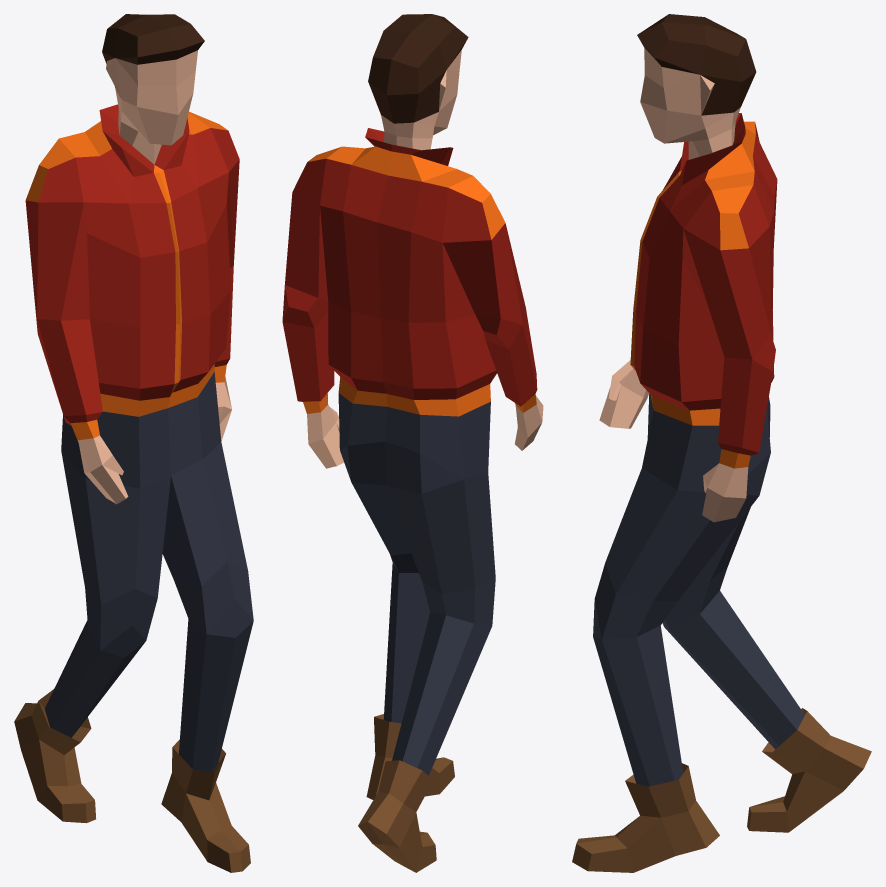
Rendered from AutumnManC.003.glb.
The picture shows the model from 3 angles, left to right: view 1: azimuth 30°, elevation 25°; view 2: azimuth 150°, elevation 25°; view 3: azimuth 270°, elevation 25°; orthographic projection. The views are drawn at different scales.
Parts seen in each view (by area): view 1: AutumnManC.003; view 2: AutumnManC.003; view 3: AutumnManC.003.
Part boxes in pixels (x1,y1,x2,y2): AutumnManC.003: [14, 14, 253, 872]; AutumnManC.003: [282, 14, 543, 872]; AutumnManC.003: [572, 14, 871, 872].
Bounding box in the file's own units: 0.4855 × 1.74 × 0.5725.
1 material, 1 textured.
